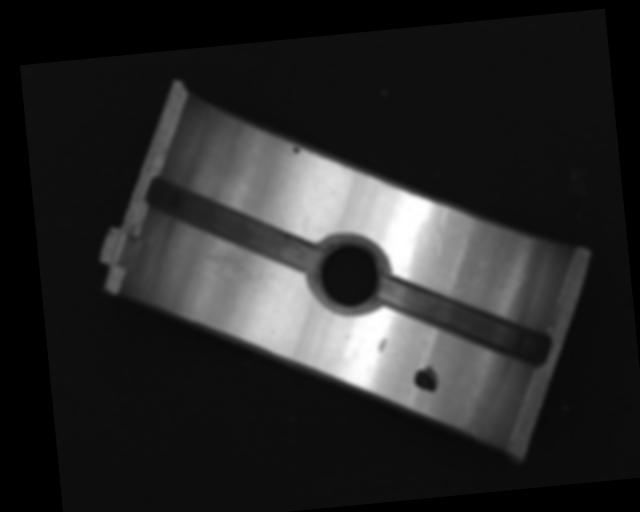blot: (411, 364, 439, 395), (290, 144, 301, 156)
bruise: (428, 205, 455, 257), (378, 336, 389, 354)
gap: (145, 164, 321, 285), (379, 264, 550, 380)
hole: (307, 231, 389, 318)
scratch: (183, 242, 274, 300)
